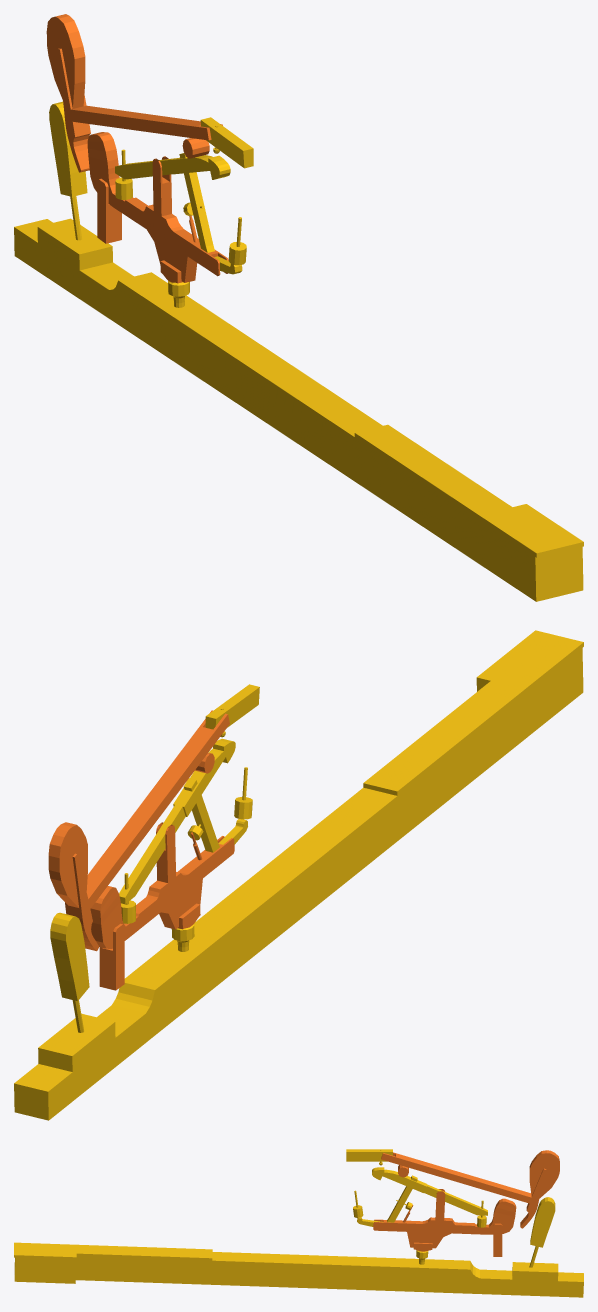
Rendered from key.obj.
3 renders of one model, top to bottom at view 1: azimuth 30°, elevation 25°; view 2: azimuth 150°, elevation 25°; view 3: azimuth 270°, elevation 25°, orthographic. The views are drawn at different scales.
Visible parts, largest first — view 1: white_keys.006_Cube.008, white_keys.001_Cube.123, white_keys.003_Cube.003, white_keys.005_Cube.006, white_keys.007_Cube.007, white_keys.002_Cube.002; view 2: white_keys.006_Cube.008, white_keys.003_Cube.003, white_keys.001_Cube.123, white_keys.005_Cube.006, white_keys.007_Cube.007, white_keys.002_Cube.002; view 3: white_keys.006_Cube.008, white_keys.001_Cube.123, white_keys.003_Cube.003, white_keys.005_Cube.006, white_keys.002_Cube.002, white_keys.007_Cube.007.
Boxes of the visible parts, box(x1,y1,x2,y2) form: white_keys.006_Cube.008: box(14, 101, 583, 601); white_keys.001_Cube.123: box(87, 132, 228, 283); white_keys.003_Cube.003: box(46, 14, 222, 172); white_keys.005_Cube.006: box(115, 149, 230, 199); white_keys.007_Cube.007: box(179, 153, 242, 274); white_keys.002_Cube.002: box(200, 117, 253, 168); white_keys.006_Cube.008: box(14, 630, 583, 1120); white_keys.003_Cube.003: box(48, 710, 229, 951); white_keys.001_Cube.123: box(90, 822, 234, 990); white_keys.005_Cube.006: box(119, 738, 235, 923); white_keys.007_Cube.007: box(183, 778, 247, 852); white_keys.002_Cube.002: box(205, 684, 259, 737); white_keys.006_Cube.008: box(14, 1197, 583, 1297); white_keys.001_Cube.123: box(373, 1189, 516, 1256); white_keys.003_Cube.003: box(381, 1150, 559, 1228); white_keys.005_Cube.006: box(372, 1167, 487, 1227); white_keys.002_Cube.002: box(346, 1149, 392, 1165); white_keys.007_Cube.007: box(357, 1175, 417, 1226).
Bounding box in the file's own units: 3.08 × 16.35 × 59.12.
